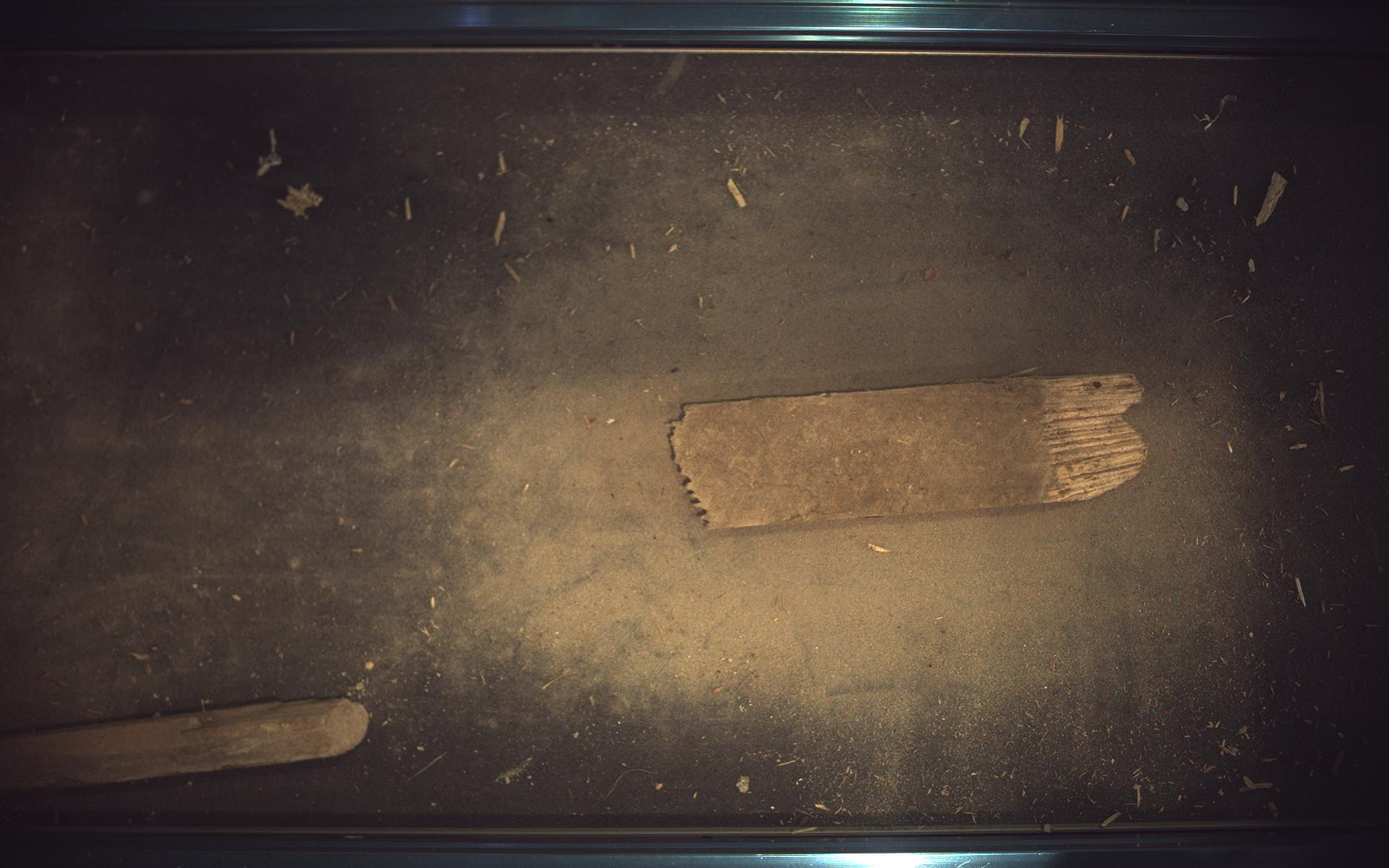wood: (672, 374, 1149, 529)
